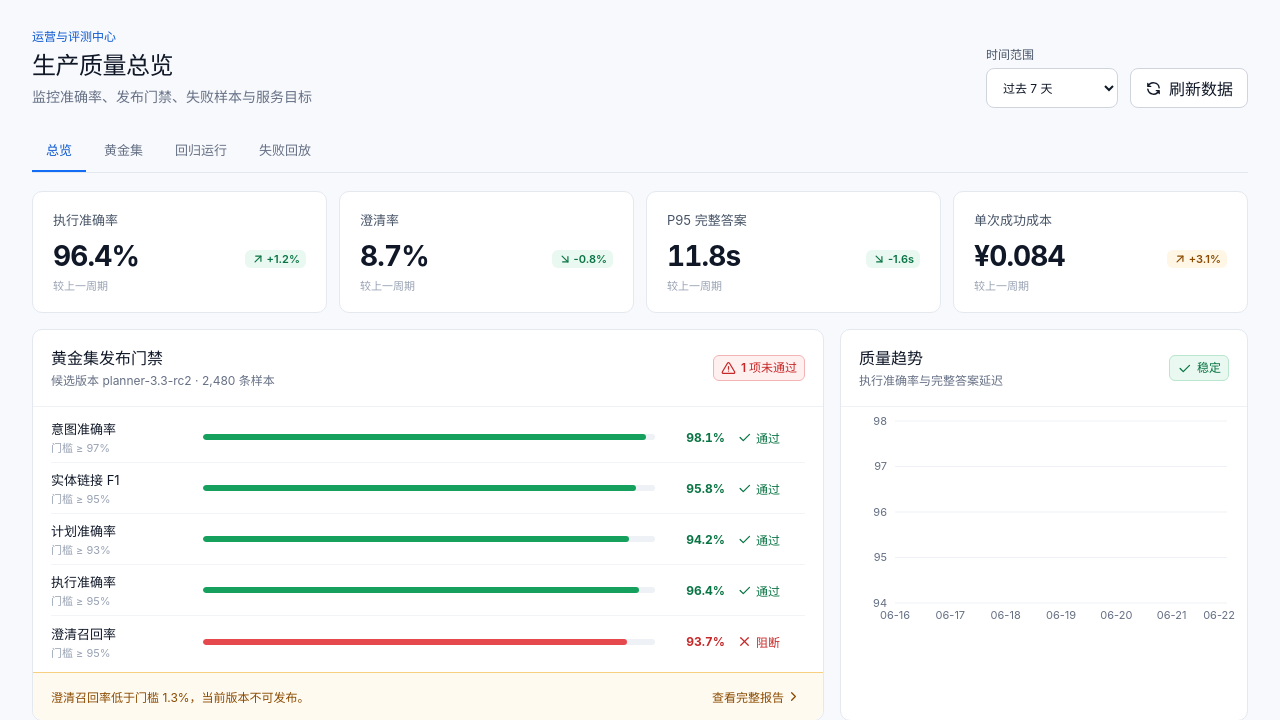
Test case: Accessibility acceptance › exposes replay detail as a named dialog with an explicit close control
Click the tab "失败回放" at (285, 150), box 245,128 -> 325,172
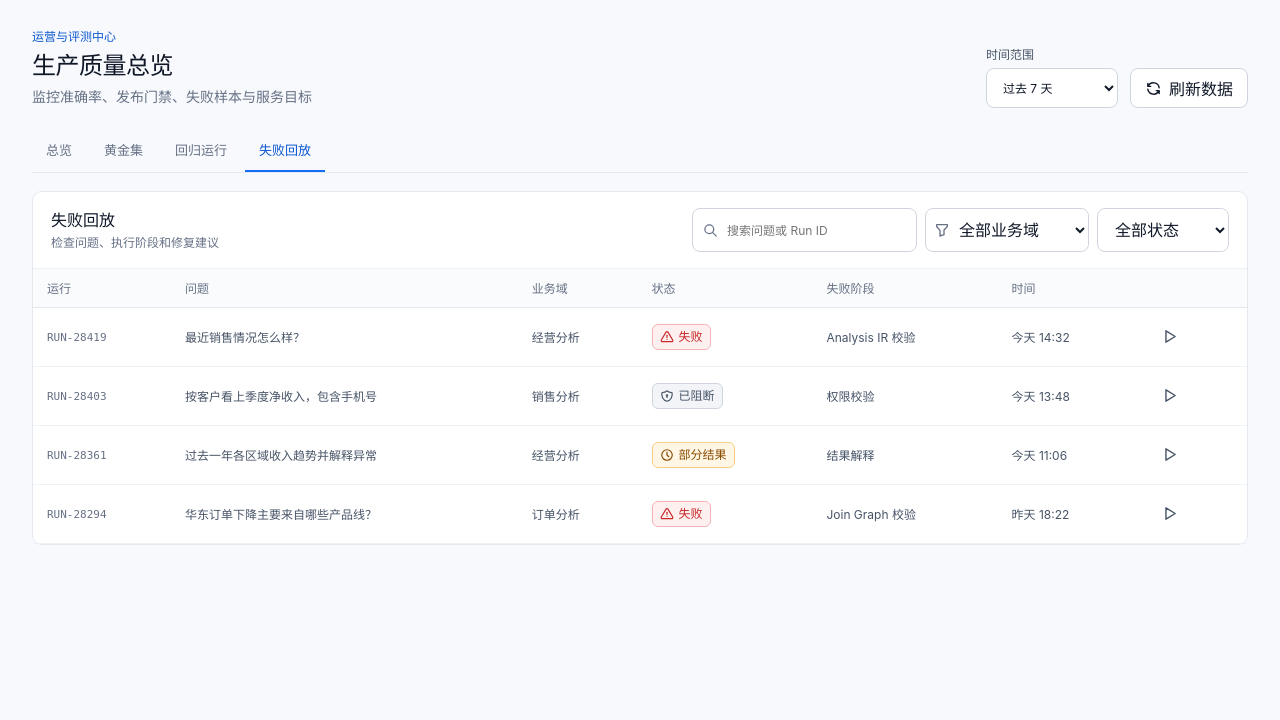
Click the button named "回放 RUN-28419" at (1170, 336), box 1148,314 -> 1192,358
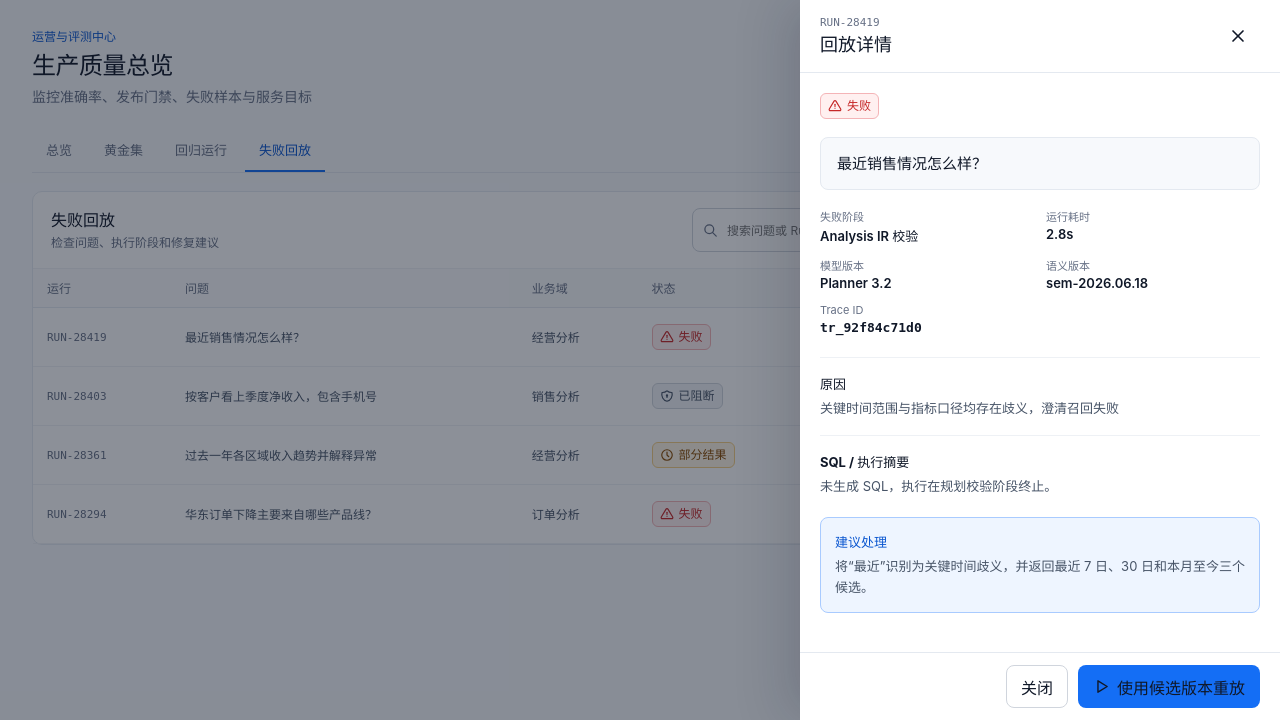
Now the button named "关闭回放详情" is shown
Now the text "Trace ID" is shown, box 820,303 -> 864,317
Click the button named "关闭回放详情" at (1238, 36), box 1216,14 -> 1260,58
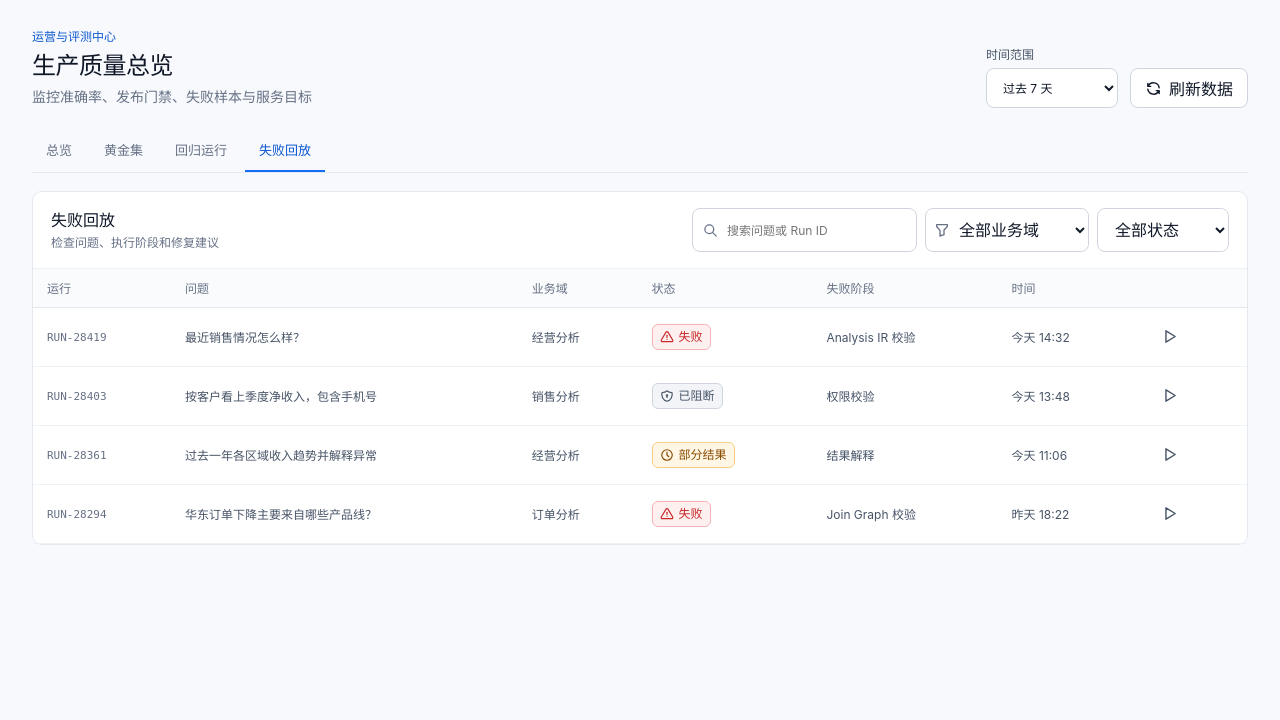
Now the heading "回放详情" is gone
